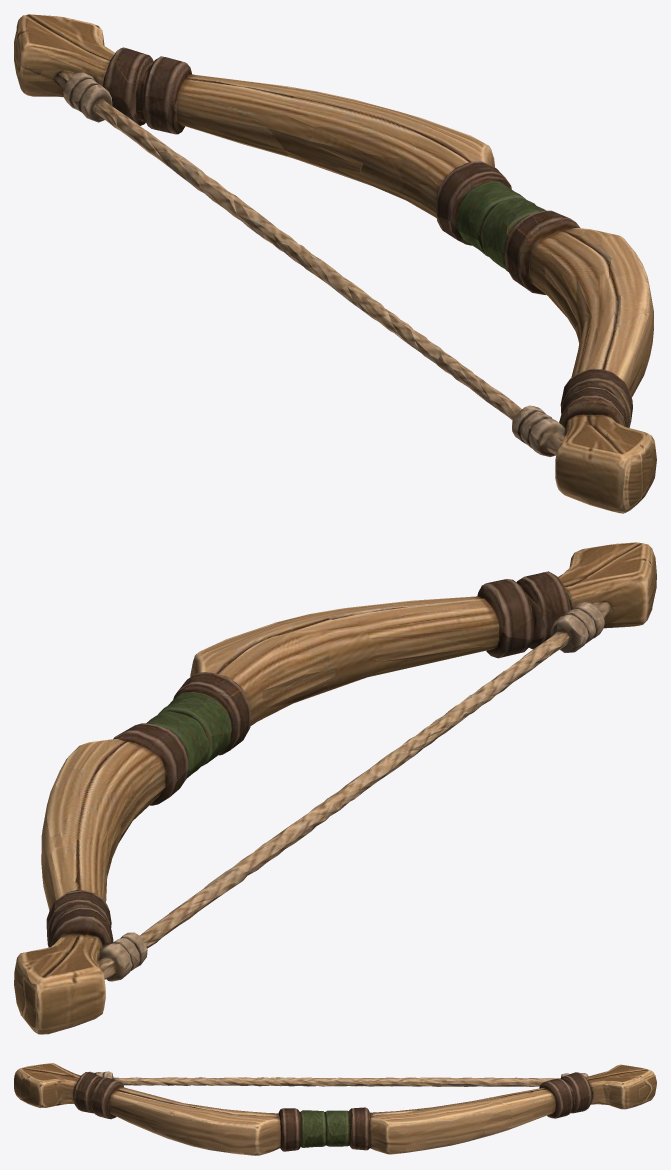
File: ashwood_bow.glb
3 views of the same model, one above another, from view 1: azimuth 30°, elevation 25°; view 2: azimuth 150°, elevation 25°; view 3: azimuth 270°, elevation 25° (orthographic). The views are drawn at different scales.
Size of the model in its own units: 0.4955 by 0.132 by 1.98.
Materials: 1 (1 with a texture image).
